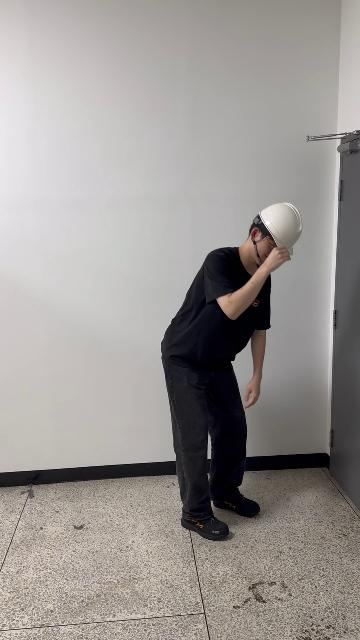helmet_worn: (256, 202, 304, 257)
shoe_worn: (182, 514, 230, 540), (212, 494, 259, 517)
vest_not_worn: (164, 252, 267, 387)
